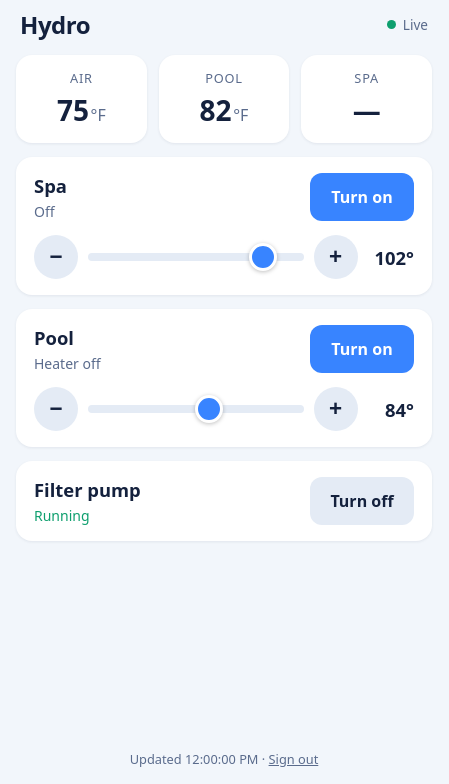
Test case: set point slider › clamps steppers to the range from the backend
The width and height of the screenshot is (449, 784).
Set the slider named "spa target temperature" to "104". click: (296, 257)
box: [88,235,304,279]
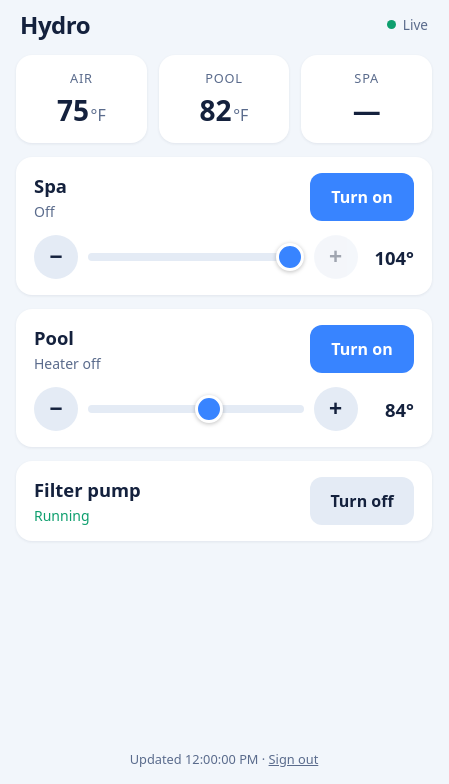
Now the button named "Raise spa target" is disabled, box [314,235,358,279]
